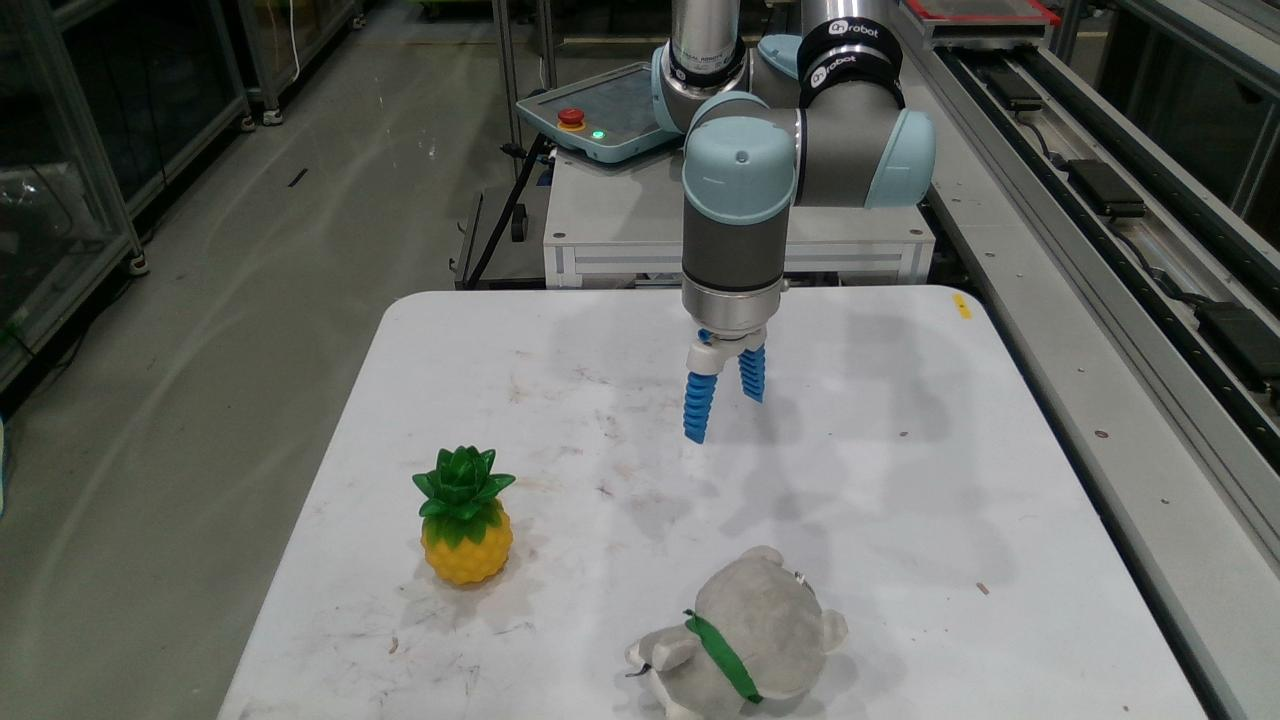UR5: (651, 0, 934, 375)
gripper_left: (684, 372, 717, 443)
gripper_right: (739, 342, 765, 403)
target: (624, 546, 849, 719), (413, 445, 515, 586)
